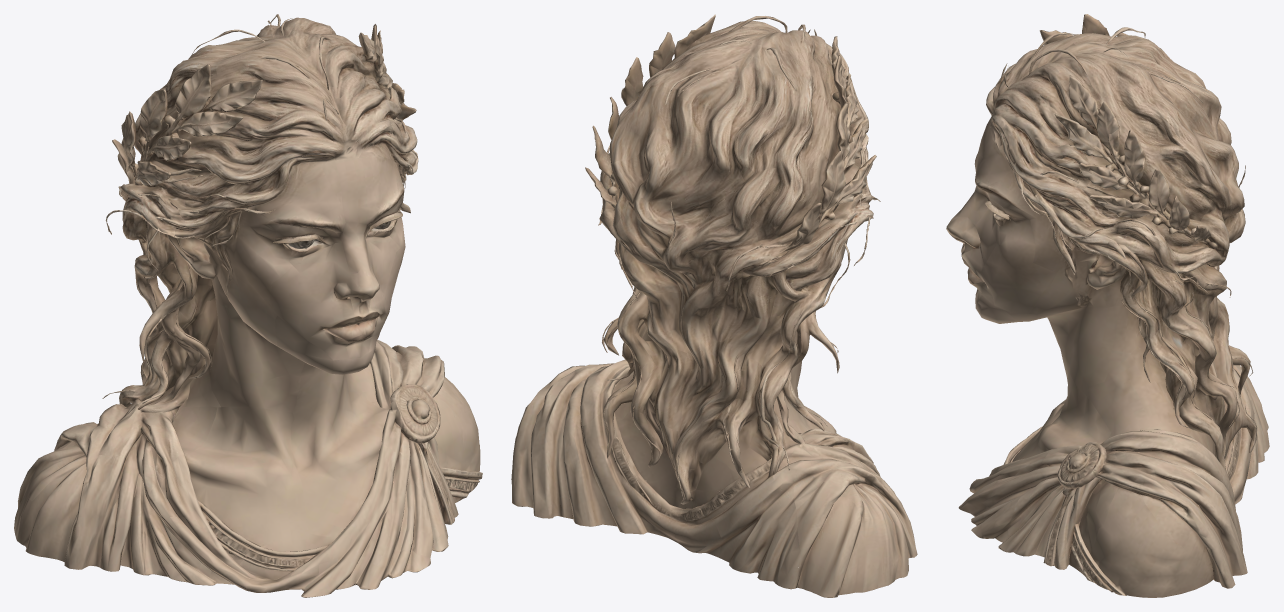
File: atenea.glb
3 views of the same model, side by side, from view 1: azimuth 30°, elevation 25°; view 2: azimuth 150°, elevation 25°; view 3: azimuth 270°, elevation 25° (orthographic). The views are drawn at different scales.
Bounding box in the file's own units: 0.8652 × 0.9826 × 0.6235.
1 material, 1 textured.
